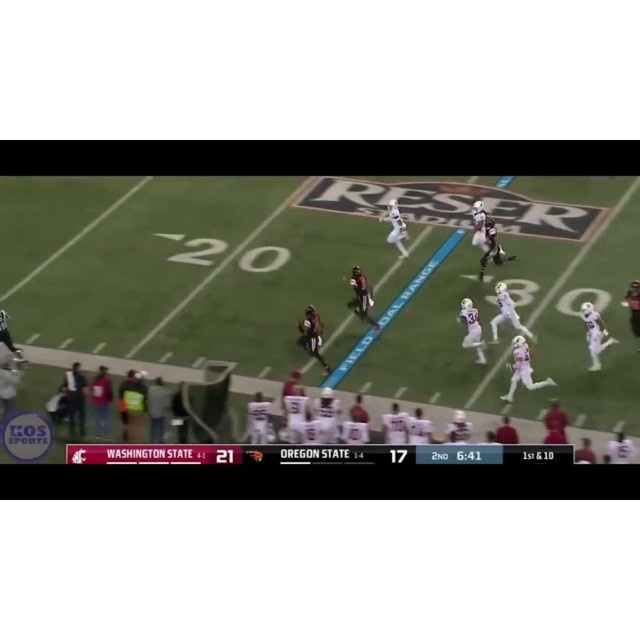american-football-player: (501, 336, 555, 403), (578, 302, 618, 372), (489, 282, 533, 345), (298, 305, 330, 374), (457, 299, 488, 364), (380, 198, 411, 259), (348, 264, 376, 327), (619, 280, 640, 351)
